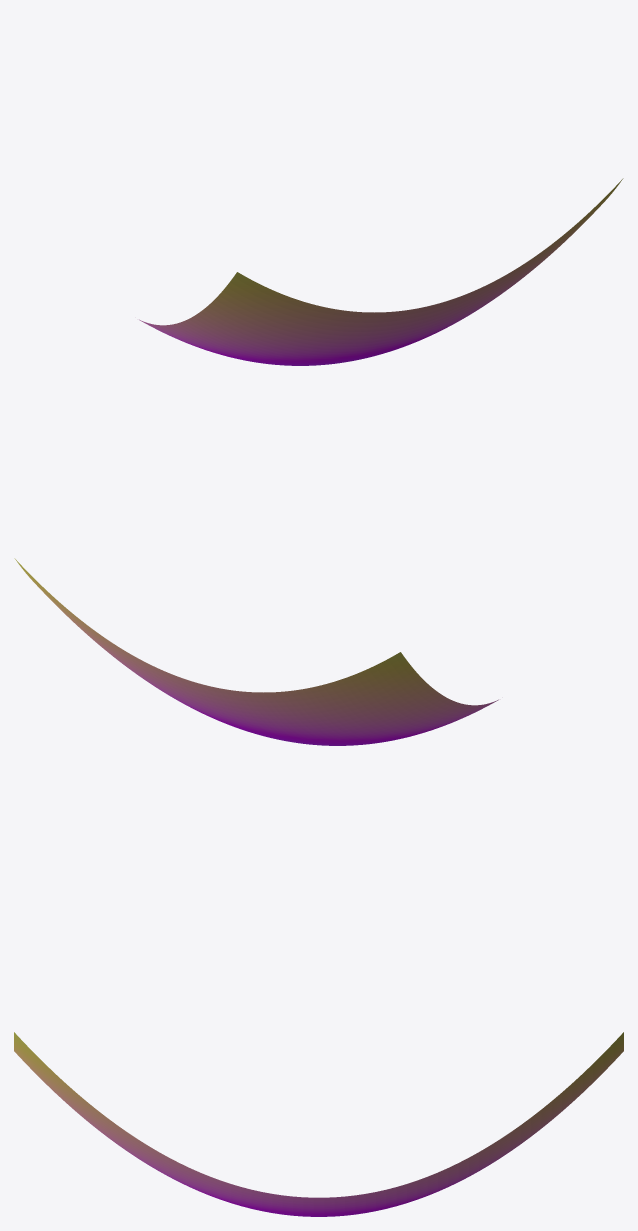
Rendered from graph_05dce367.glb.
3 views of the same model, one above another, from view 1: azimuth 30°, elevation 25°; view 2: azimuth 150°, elevation 25°; view 3: azimuth 270°, elevation 25° (orthographic). The views are drawn at different scales.
Parts seen in each view (by area): view 1: geometry_0; view 2: geometry_0; view 3: geometry_0.
Part boxes in pixels (x1,y1,x2,y2): geometry_0: [139, 178, 623, 365]; geometry_0: [14, 558, 498, 745]; geometry_0: [14, 1032, 623, 1216].
Size of the model in its own units: 1 by 0.5 by 1.
